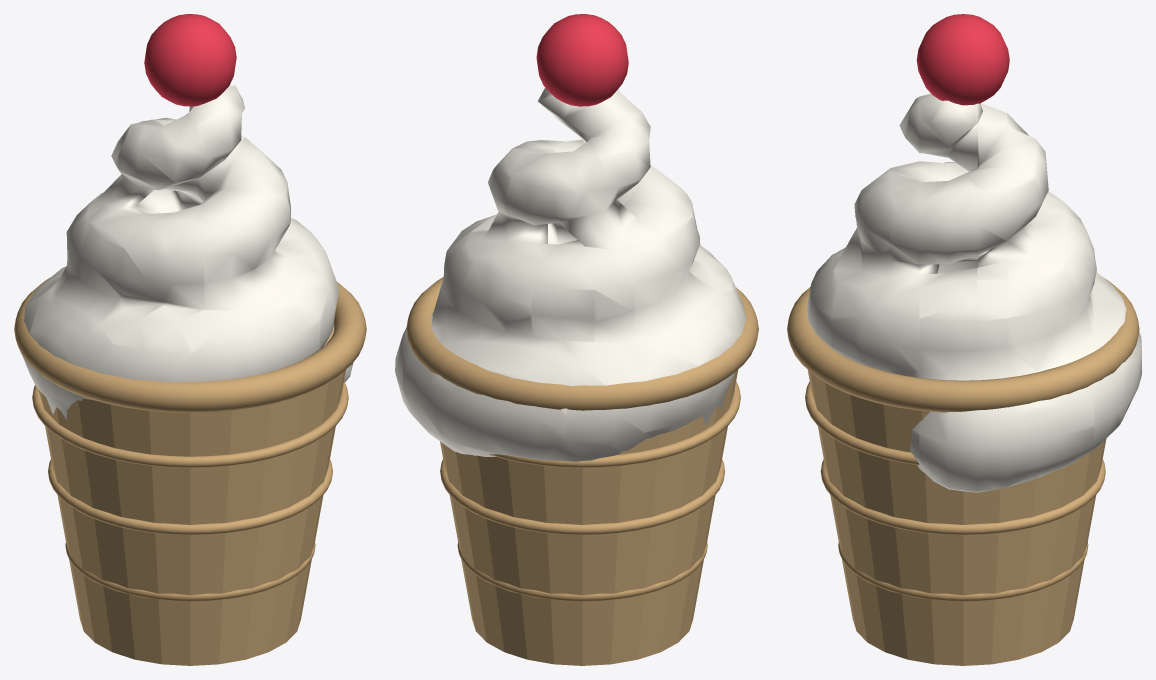
Rendered from dondurma.glb.
The picture shows the model from 3 angles, left to right: view 1: azimuth 30°, elevation 25°; view 2: azimuth 150°, elevation 25°; view 3: azimuth 270°, elevation 25°; orthographic projection.
Parts seen in each view (by area): view 1: Dondurma; view 2: Dondurma; view 3: Dondurma.
Boxes of the visible parts, x1=… form: Dondurma: x1=14, y1=14, x2=366, y2=665; Dondurma: x1=395, y1=14, x2=758, y2=665; Dondurma: x1=787, y1=14, x2=1141, y2=665.
Bounding box in the file's own units: 0.5225 × 0.95 × 0.5085.
